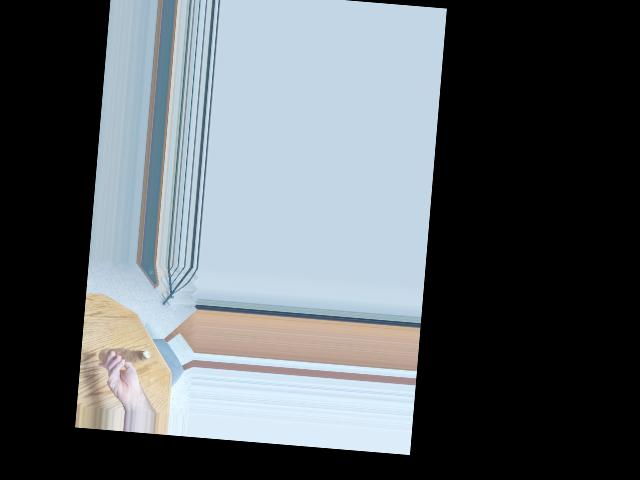sweet_potato: (107, 348, 152, 362)
